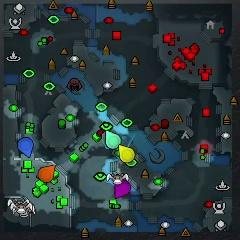p1: (18, 137, 34, 158)
p2: (105, 130, 121, 150)
p3: (114, 179, 131, 197)
p4: (119, 145, 135, 163)
p5: (39, 165, 57, 182)
